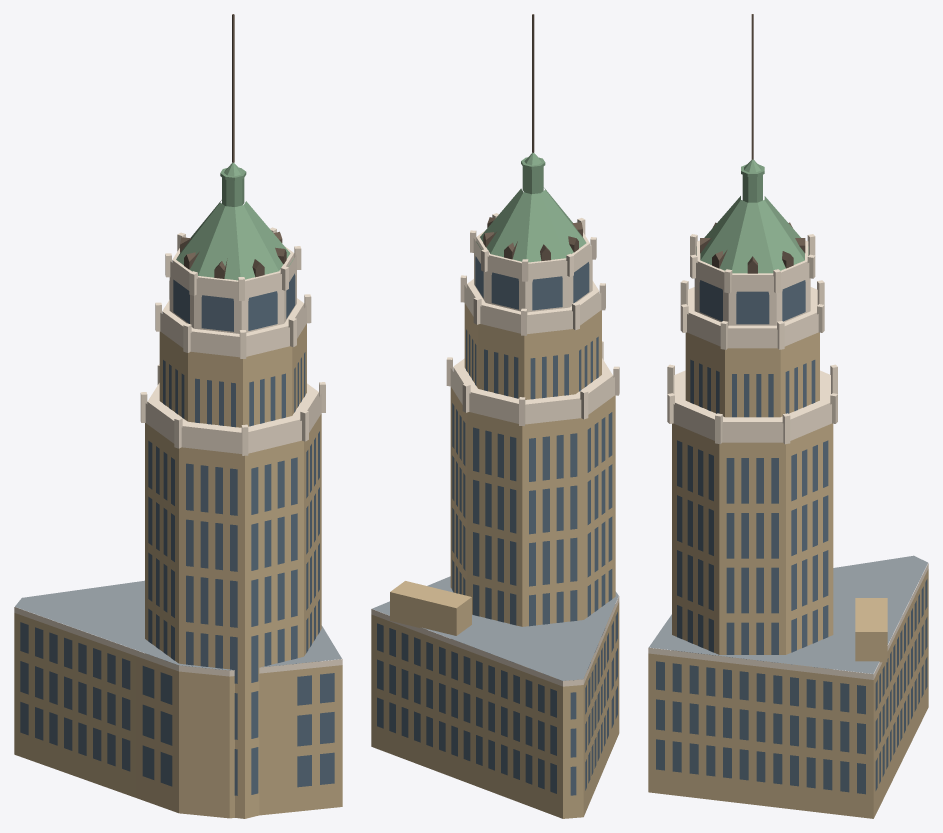
Rendered from sat-tower-life-building.glb.
The picture shows the model from 3 angles, left to right: view 1: azimuth 30°, elevation 25°; view 2: azimuth 150°, elevation 25°; view 3: azimuth 270°, elevation 25°; orthographic projection. The views are drawn at different scales.
Parts seen in each view (by area): view 1: Tower Life Building; view 2: Tower Life Building; view 3: Tower Life Building.
Part boxes in pixels (x1,y1,x2,y2): Tower Life Building: (14,14,342,818); Tower Life Building: (371,14,619,818); Tower Life Building: (648,14,928,818).
Size of the model in its own units: 52.2 by 154 by 52.1.
